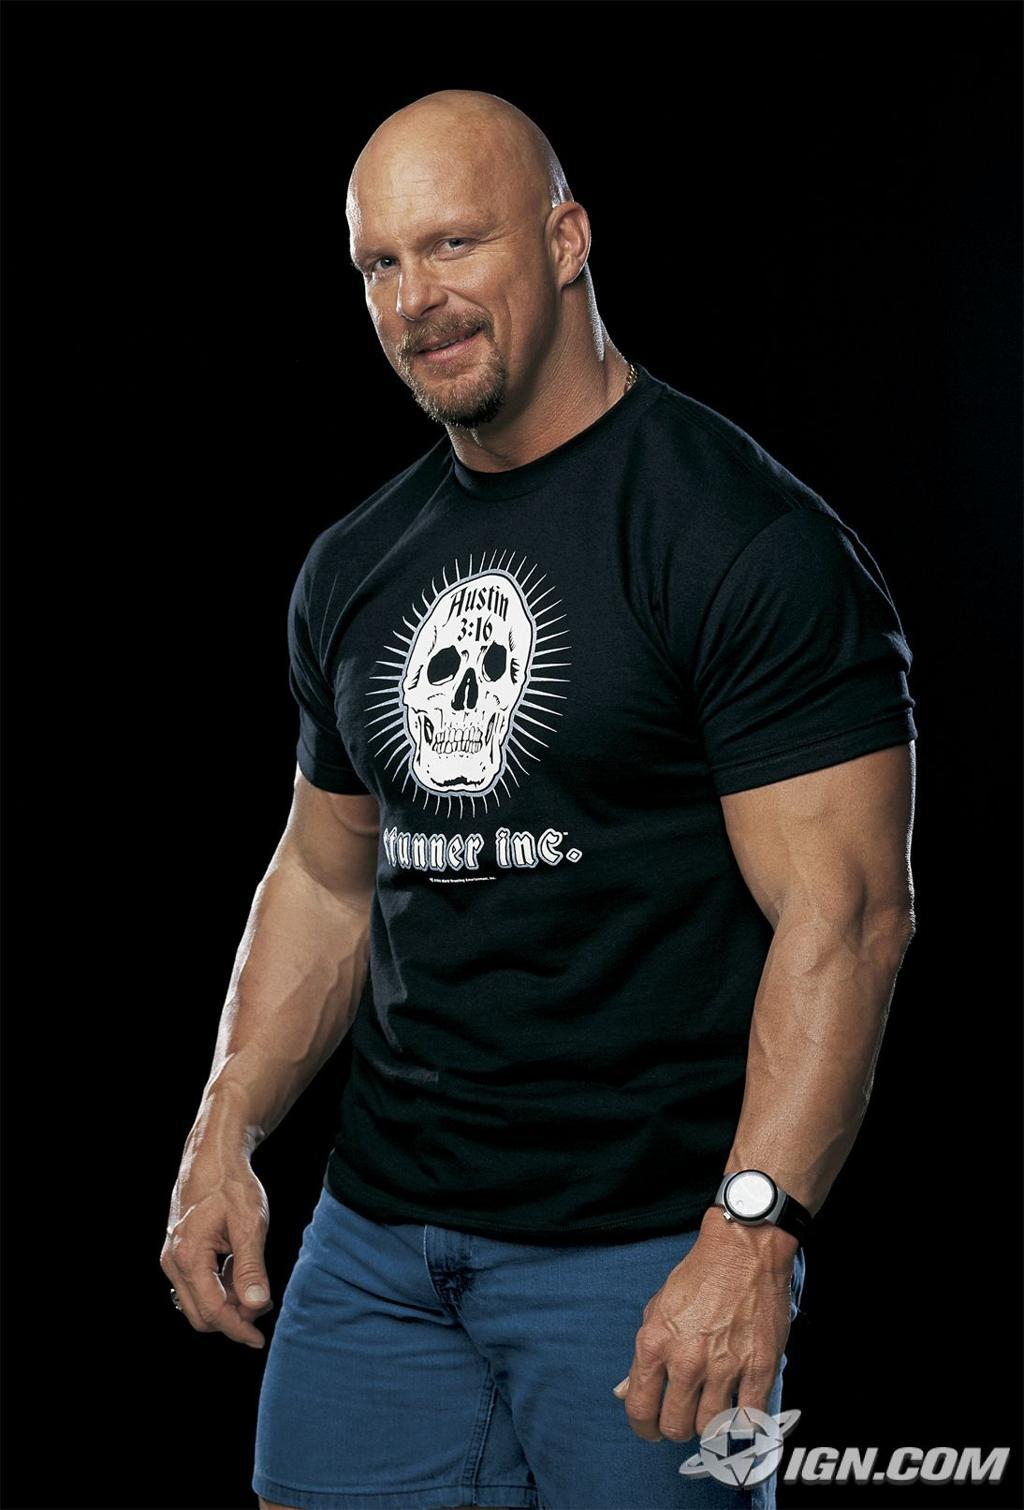face: (346, 134, 547, 403)
